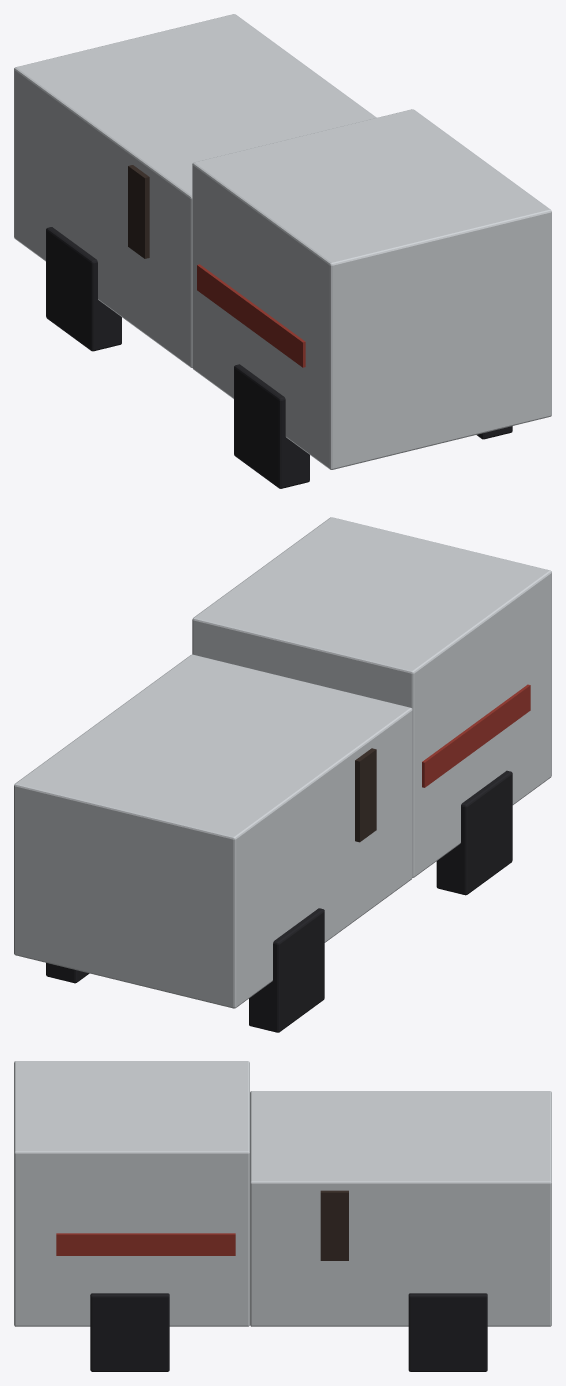
The model's file is ambulance_wreck_lod1.glb.
3 renders of one model, top to bottom at view 1: azimuth 30°, elevation 25°; view 2: azimuth 150°, elevation 25°; view 3: azimuth 270°, elevation 25°, orthographic. The views are drawn at different scales.
Visible parts, largest first — view 1: ambulance_wreck_lod1; view 2: ambulance_wreck_lod1; view 3: ambulance_wreck_lod1.
Boxes of the visible parts, x1,y1,x2,y2 form: ambulance_wreck_lod1: (14, 14, 551, 488); ambulance_wreck_lod1: (14, 517, 551, 1032); ambulance_wreck_lod1: (14, 1061, 551, 1371).
Size of what is drawn, in the model's own units: 2.42 by 2.55 by 5.7.
3 materials, 3 textured.
